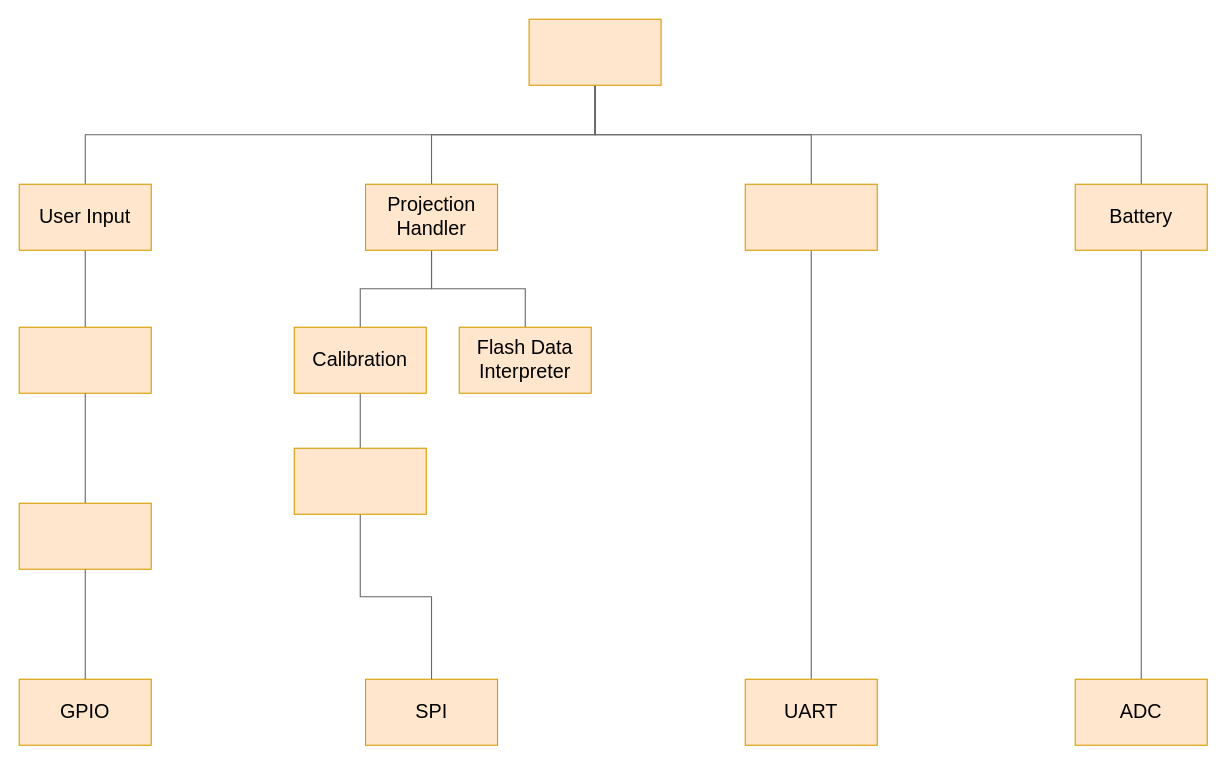
The diagram is 1227 pixels wide and 765 high, and some of its shapes have lost their labels. The centre of each missing label's shape, as x and y in pixels:
"LED Display" goes at point 84,535.
"Logging" goes at point 810,216.
"MAIN" goes at point 594,51.
"Mode Select" goes at point 84,359.
"Motor Controller" goes at point 359,480.
